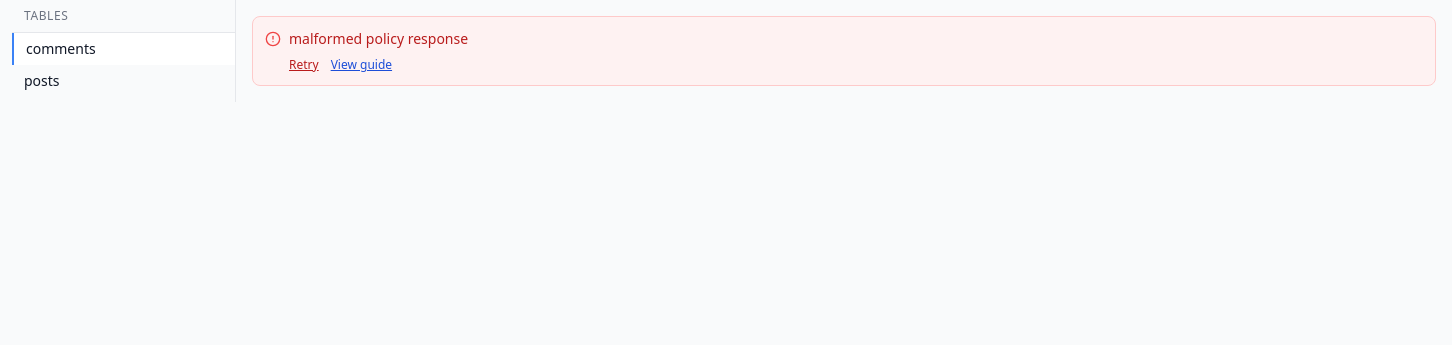
Scenario: RlsPolicies failure guidance › retries malformed policy loads and links to the RLS guide
Expected: the text "malformed policy response" is shown, x1=289 y1=29 x2=468 y2=49
Click the button "Retry": (304, 65) x1=289 y1=57 x2=319 y2=73
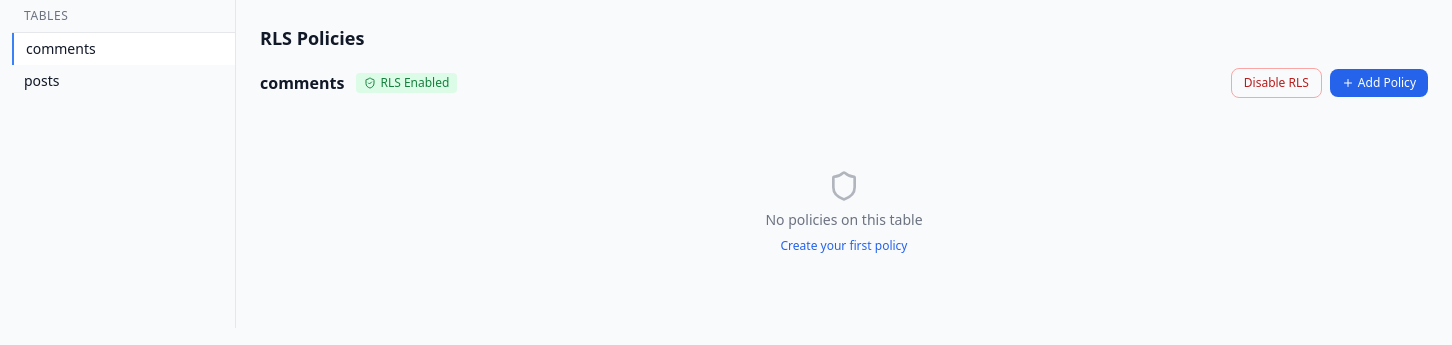
Result: the text "No policies on this table" is shown at x1=766 y1=210 x2=923 y2=229
